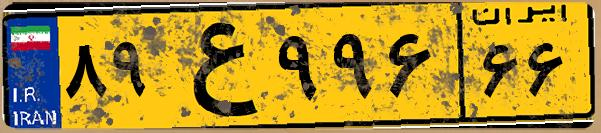6: (385, 28, 445, 110), (475, 38, 525, 113), (525, 38, 570, 115)
8: (57, 26, 110, 100)
9: (270, 28, 330, 110), (330, 28, 385, 110), (110, 28, 158, 98)
ع: (158, 12, 270, 120)
